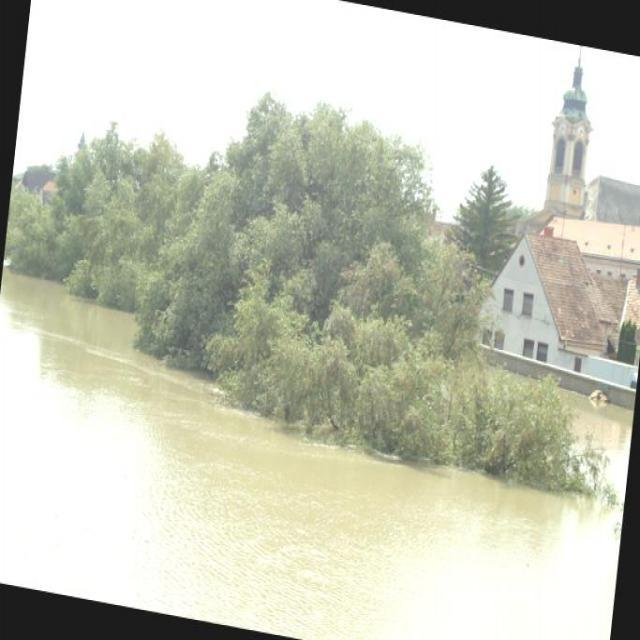flood: (0, 268, 637, 639)
